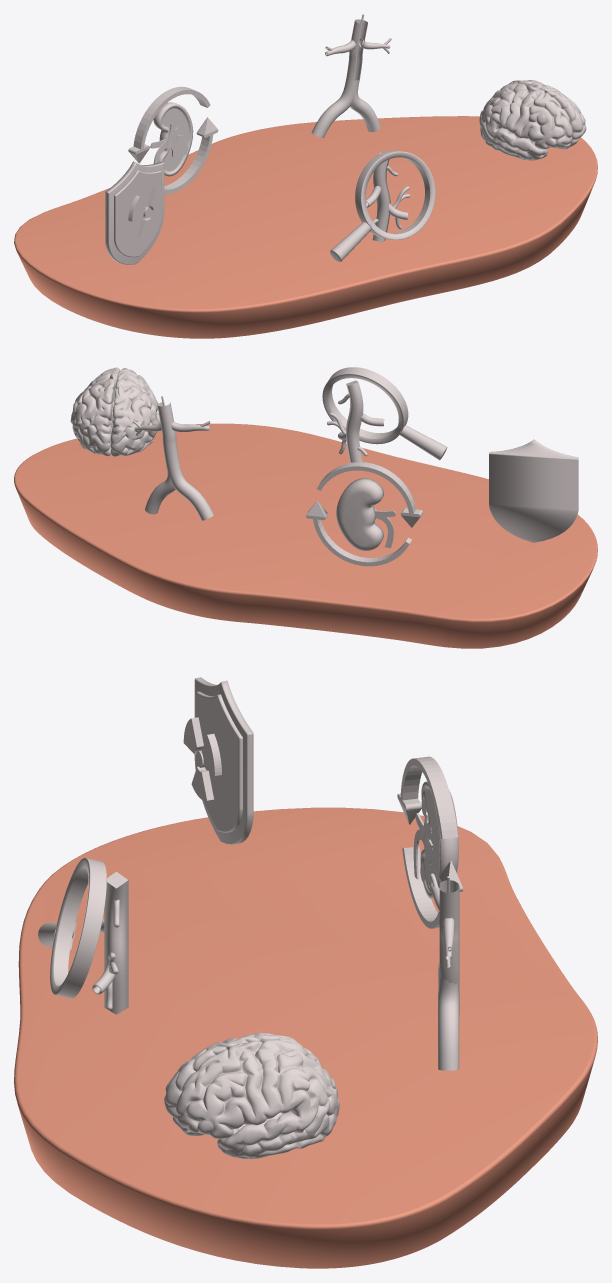
The model's file is home-hero.glb.
3 renders of one model, top to bottom at view 1: azimuth 30°, elevation 25°; view 2: azimuth 150°, elevation 25°; view 3: azimuth 270°, elevation 25°, orthographic. The views are drawn at different scales.
Visible parts, largest first — view 1: floor, shape5, shape1, shape2, shape3, shape4; view 2: floor, shape1, shape5, shape2, shape3, shape4; view 3: floor, shape5, shape3, shape1, shape2, shape4.
Part boxes in pixels (box(x1,y1,x2,y2)): floor: box(14, 116, 597, 338); shape5: box(479, 80, 586, 160); shape1: box(105, 161, 164, 264); shape2: box(128, 86, 218, 194); shape3: box(330, 150, 435, 262); shape4: box(311, 14, 391, 137); floor: box(14, 423, 597, 648); shape1: box(489, 439, 578, 542); shape5: box(70, 367, 160, 456); shape2: box(306, 462, 422, 566); shape3: box(322, 367, 447, 462); shape4: box(133, 396, 213, 520); floor: box(14, 807, 597, 1268); shape5: box(164, 1032, 339, 1158); shape3: box(38, 858, 128, 1014); shape1: box(183, 677, 253, 844); shape2: box(397, 756, 462, 928); shape4: box(428, 873, 459, 1070).
Bounding box in the file's own units: 4.53 × 1.34 × 2.67.
